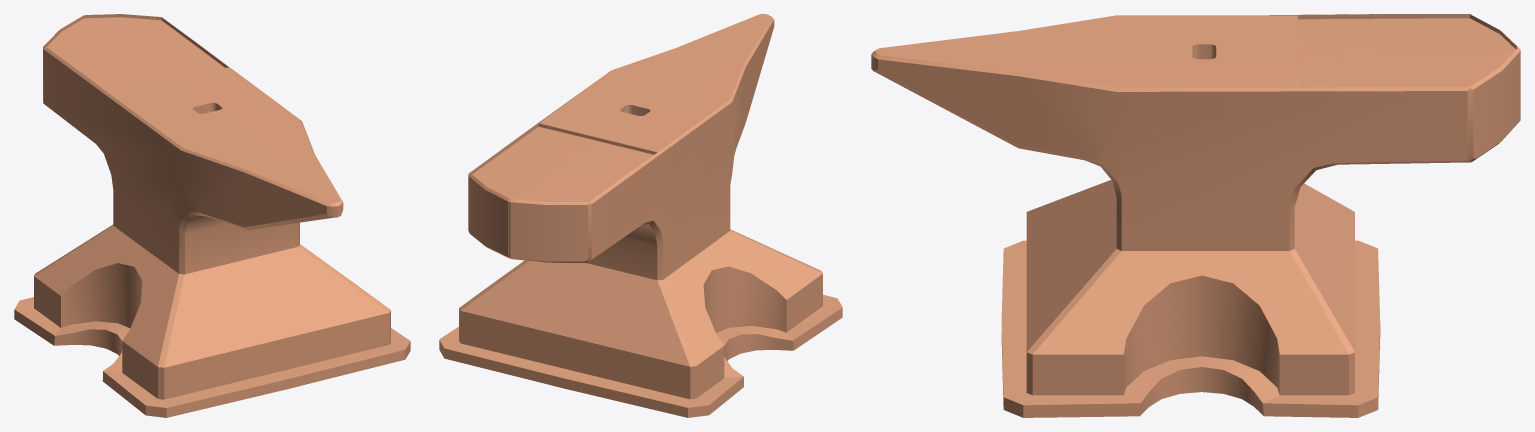
File: Anvil.fbx
3 renders of one model, left to right at view 1: azimuth 30°, elevation 25°; view 2: azimuth 150°, elevation 25°; view 3: azimuth 270°, elevation 25°, orthographic. The views are drawn at different scales.
Parts seen in each view (by area): view 1: Cube; view 2: Cube; view 3: Cube.
Part boxes in pixels (bbox=[...]): Cube: bbox=[14, 14, 410, 417]; Cube: bbox=[439, 14, 842, 417]; Cube: bbox=[871, 14, 1520, 417].
Bounding box in the file's own units: 438 × 357 × 730.
